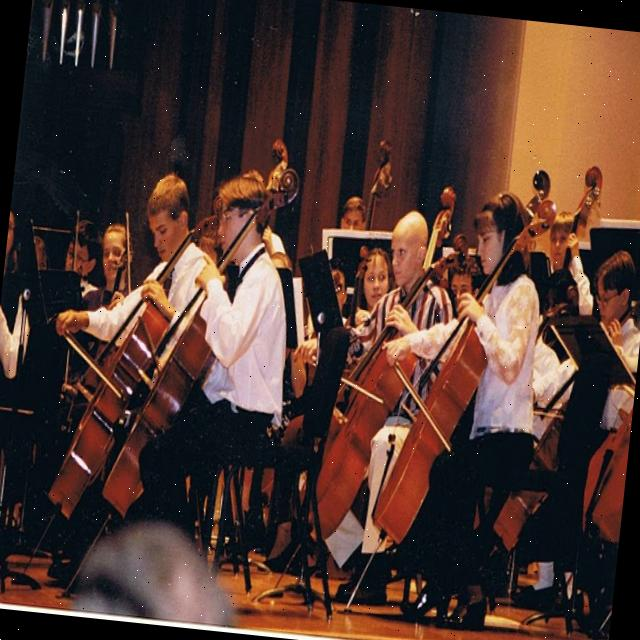cello: (100, 153, 302, 534), (368, 184, 558, 559), (294, 220, 471, 554), (46, 198, 220, 531)
